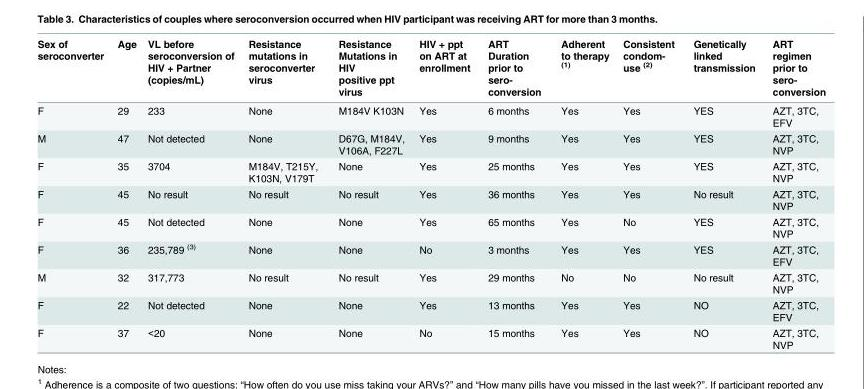table: (37, 37, 826, 350)
table column: (142, 37, 241, 350), (241, 37, 328, 350), (328, 37, 412, 350), (684, 37, 764, 350), (37, 37, 111, 350), (479, 37, 551, 350), (616, 37, 684, 350), (412, 37, 479, 350), (551, 37, 616, 350), (764, 37, 826, 350), (111, 37, 142, 350)
table column header: (37, 37, 826, 100)
table row: (37, 37, 826, 100), (37, 100, 826, 130), (37, 157, 826, 185), (37, 185, 826, 213), (37, 240, 826, 268), (37, 268, 826, 296), (37, 296, 826, 324), (37, 130, 826, 157), (37, 213, 826, 240), (37, 324, 826, 350)
